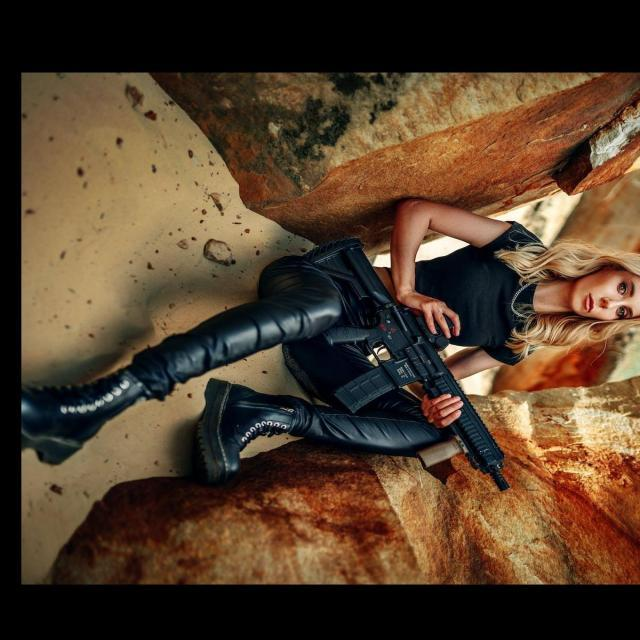weapon: (302, 237, 512, 492)
